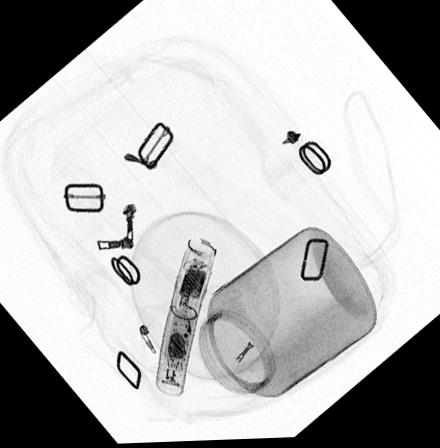Baton: (153, 236, 217, 398)
